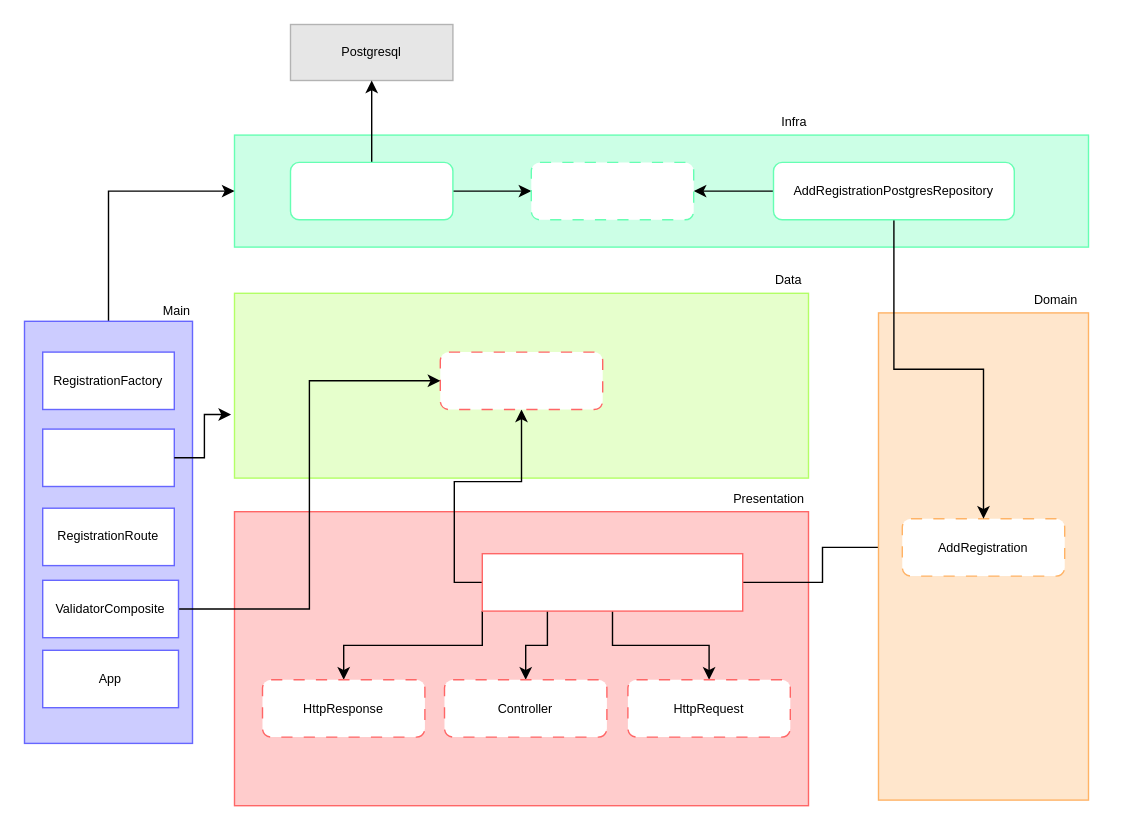
Some shapes in this 1123 by 830 pixel diagram are drawn without their labels. Each missing label, with the centre of its shape:
DbAddNewRegister: the point at 612,190
ExpressRouteAdapter: the point at 107,457
PrismaAdapter: the point at 371,190
StudentRegistrationController: the point at 612,581
Validator: the point at 521,380
